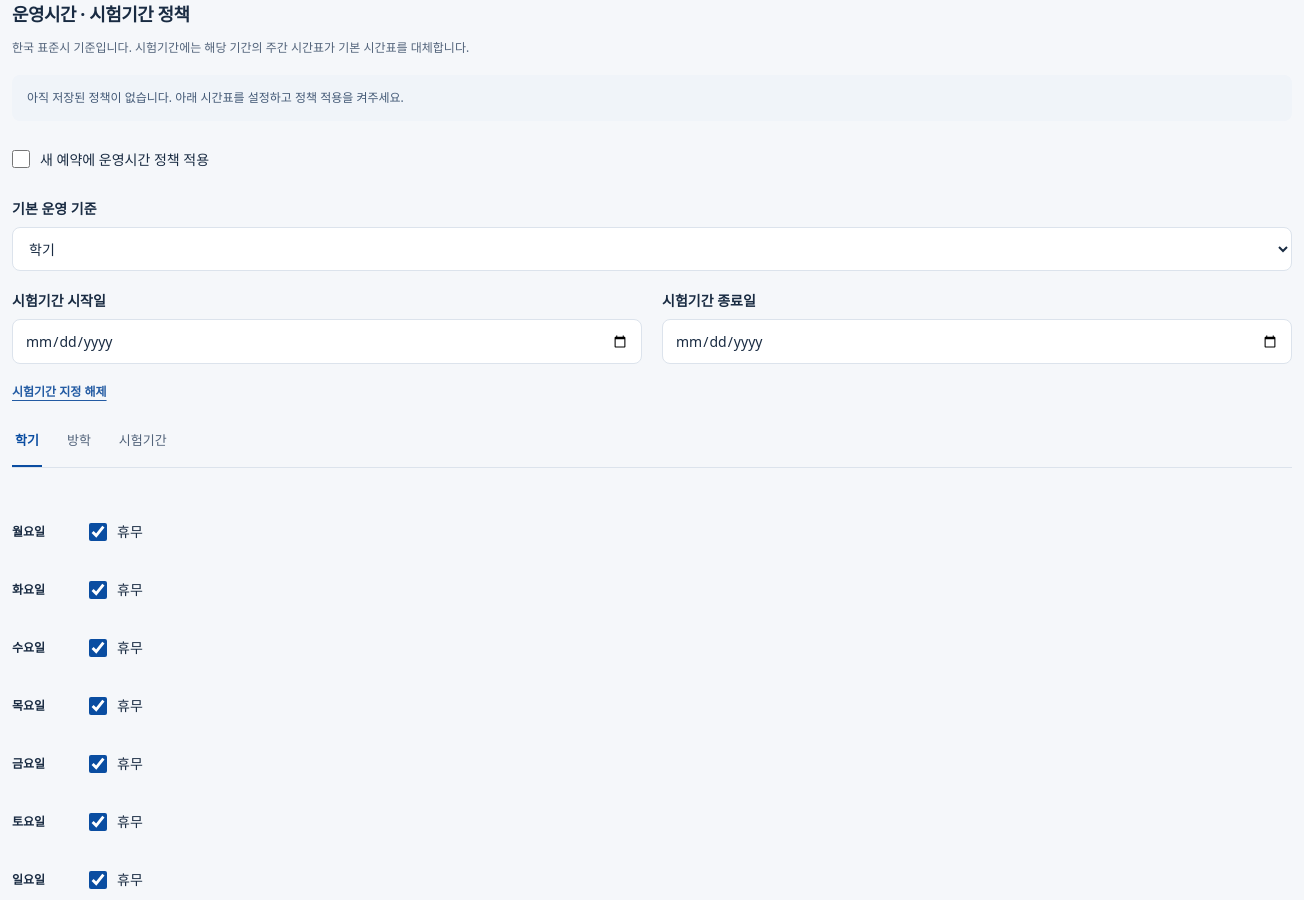
Test case: operating policy editor › submits all 21 rules and inclusive exam dates through the actual API contract
Click the checkbox labelled "새 예약에 운영시간 정책 적용" at (21, 159), box 12,150 -> 30,168
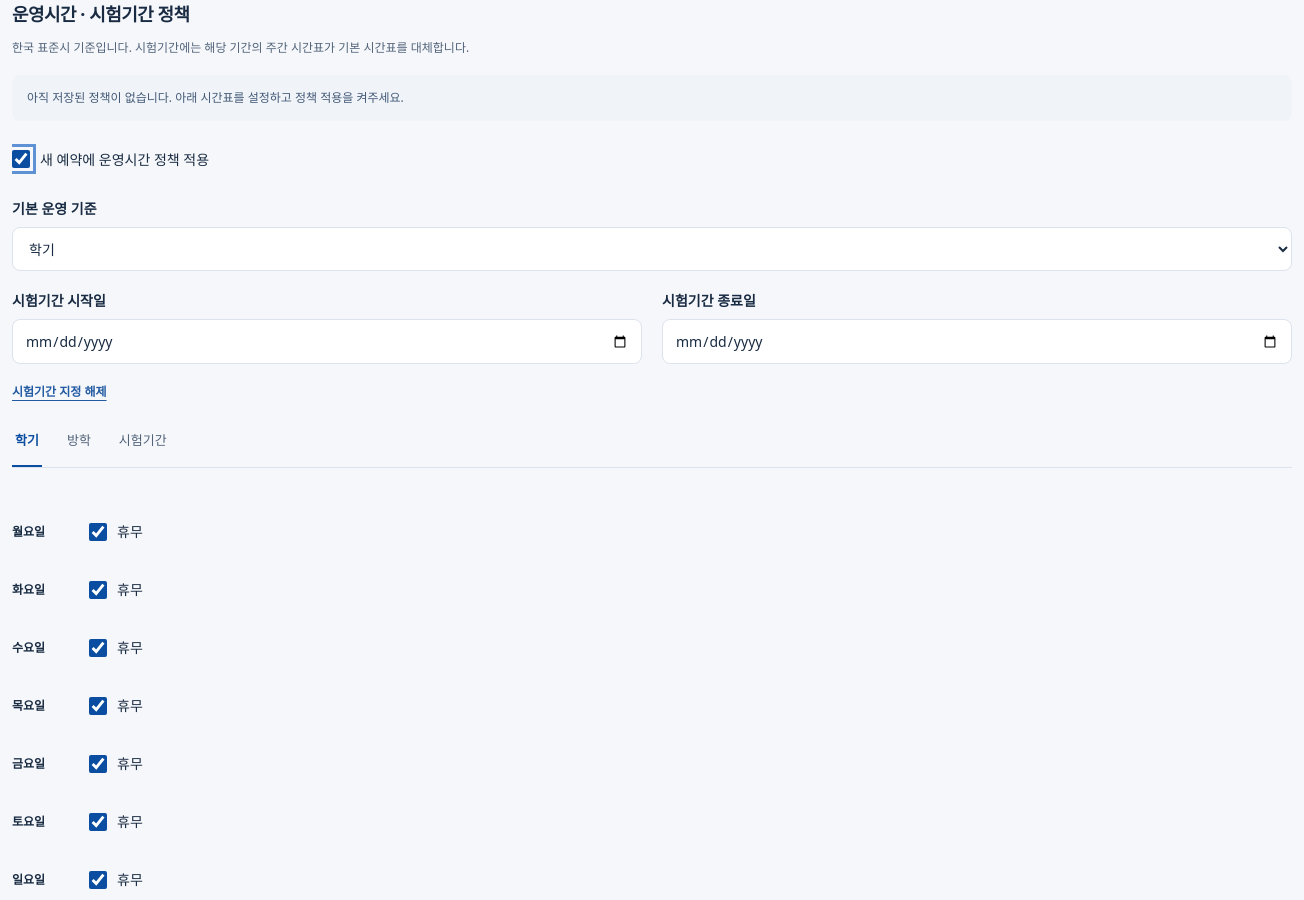
Type "2030-06-01" into the date field labelled "시험기간 시작일" at (327, 342), box 12,319 -> 642,364
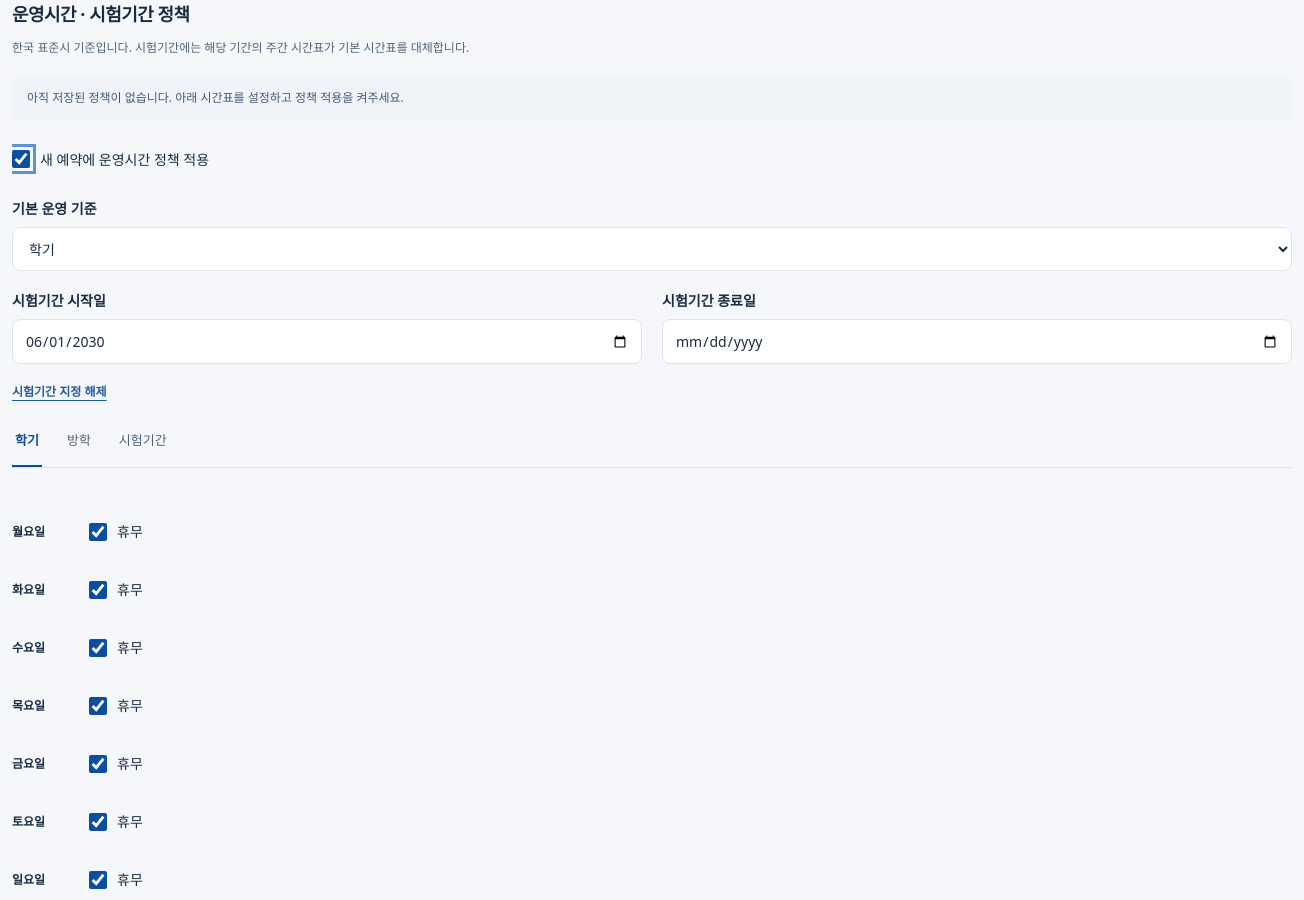
Type "2030-06-03" into the date field labelled "시험기간 종료일" at (977, 342), box 662,319 -> 1292,364
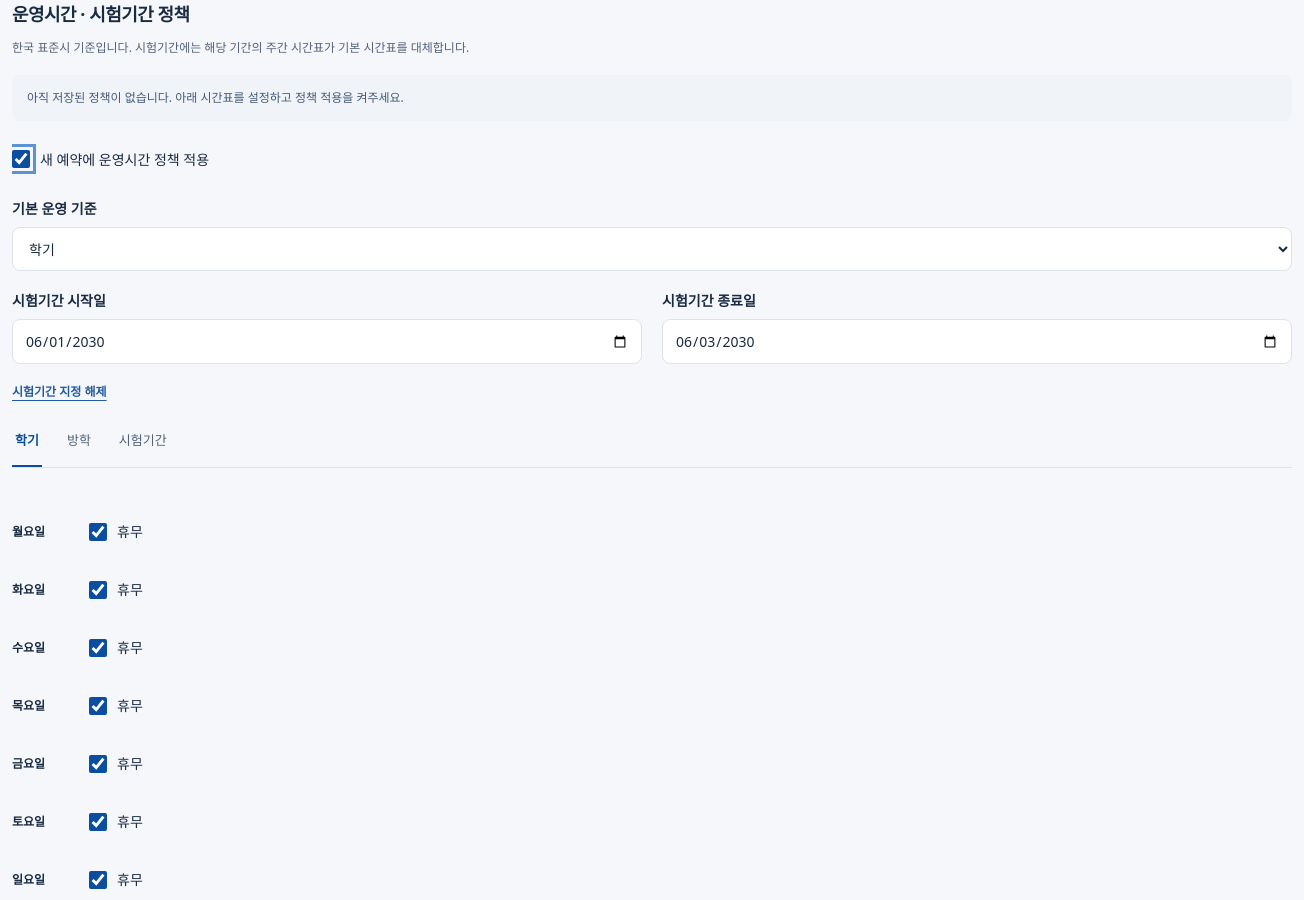
Click the checkbox labelled "휴무" next to "월요일" at (98, 532), box 89,523 -> 107,541
(page scrolled)
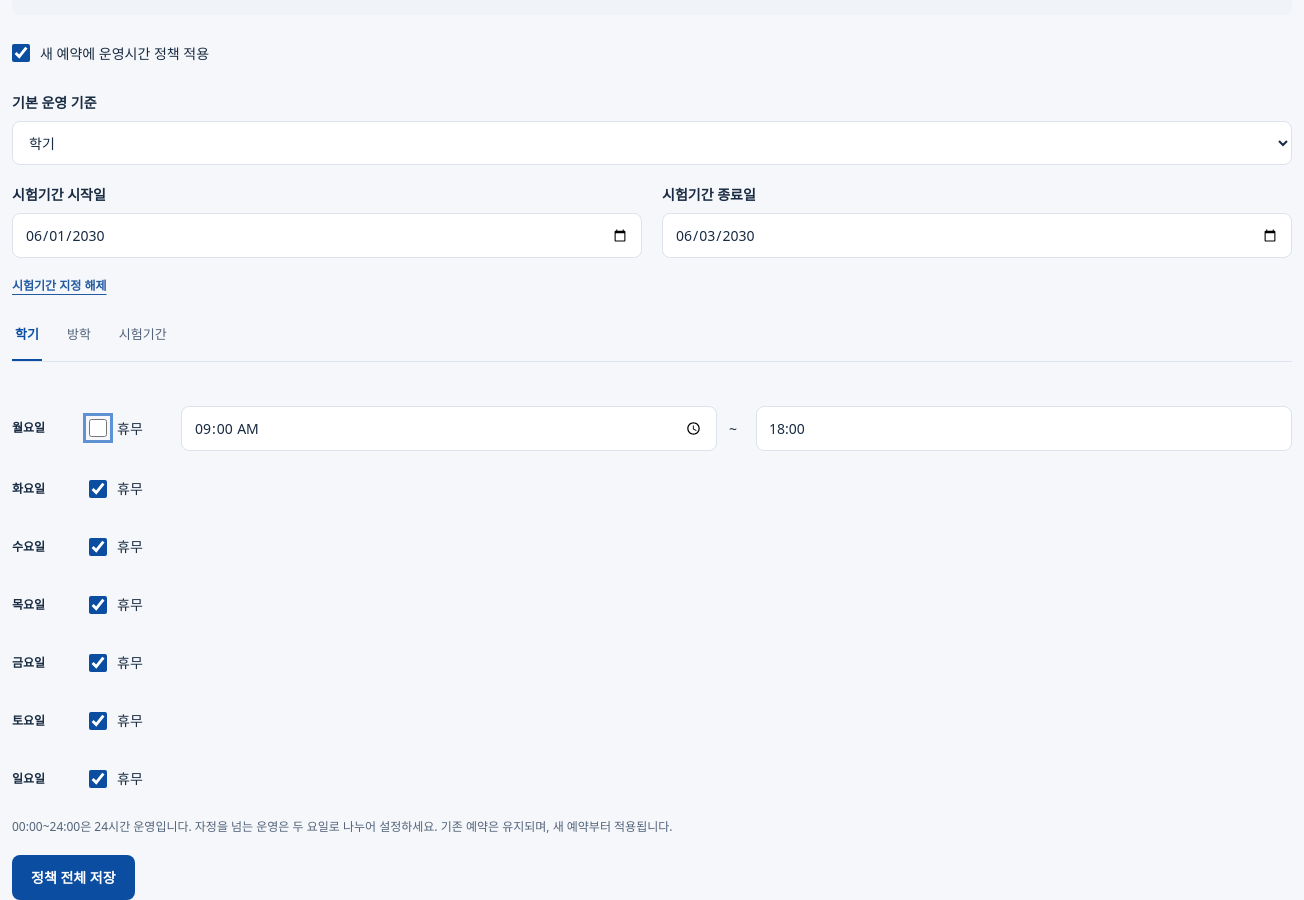
Click the button "정책 전체 저장" at (73, 877), box 12,855 -> 135,899
(page scrolled)
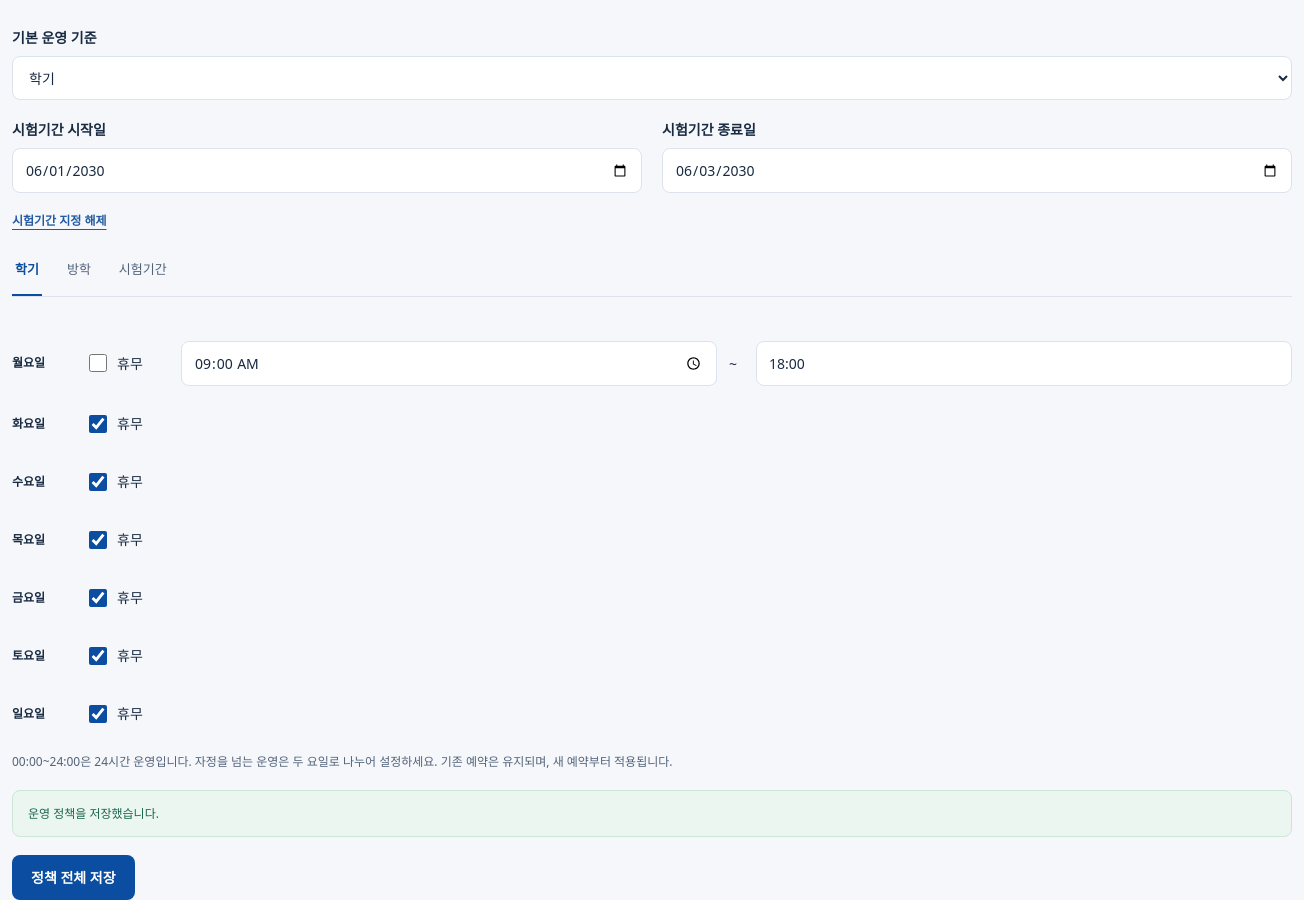
Now the text "운영 정책을 저장했습니다." is shown, box 12,790 -> 1292,837
